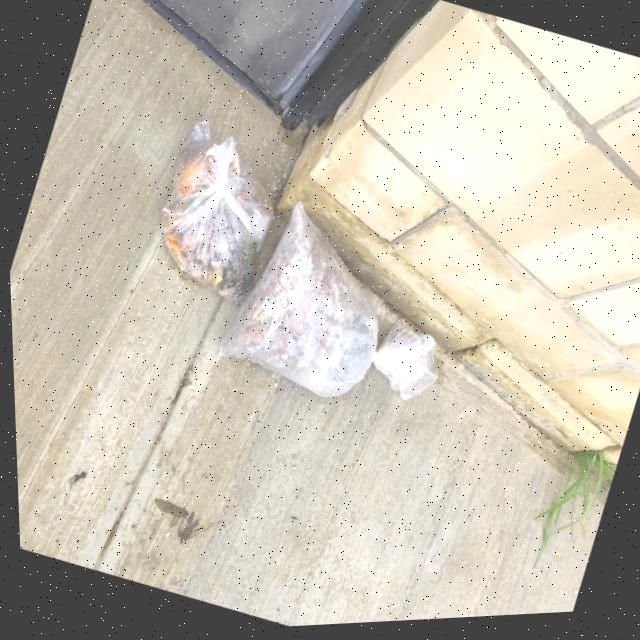Other: (207, 176, 484, 442), (123, 104, 301, 320)
